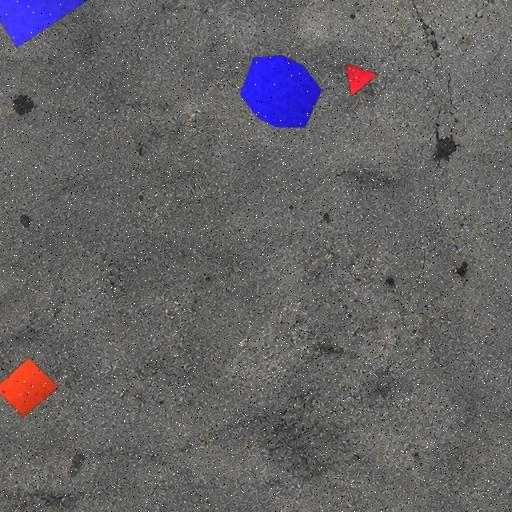BLUE_SQUARE: (0, 0, 90, 49)
RED_SQUARE: (0, 357, 59, 418)
